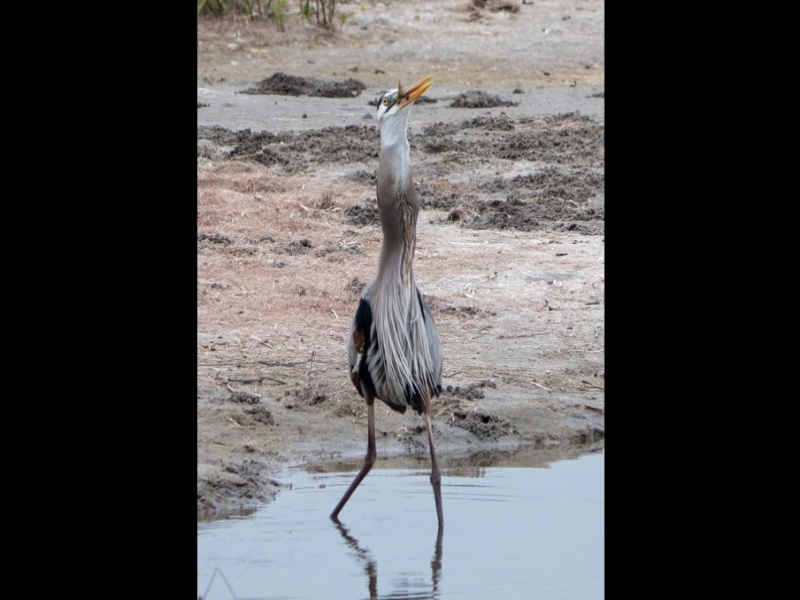heron: (325, 74, 445, 537)
